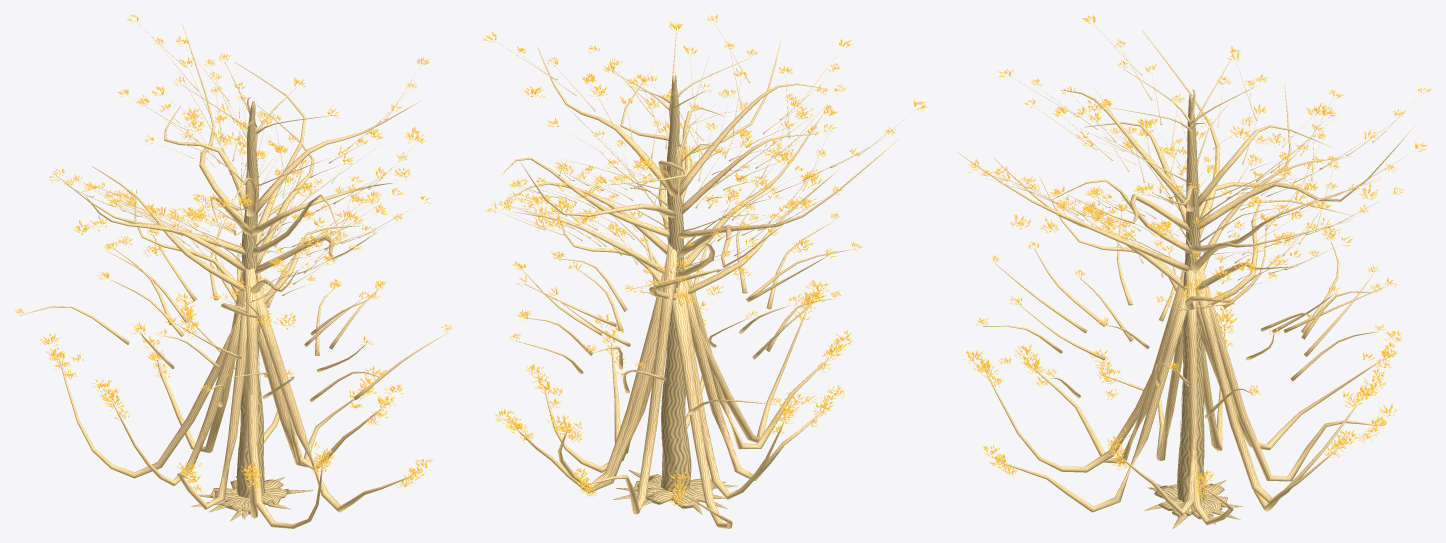
File: world_tree.glb
3 renders of one model, left to right at view 1: azimuth 30°, elevation 25°; view 2: azimuth 150°, elevation 25°; view 3: azimuth 270°, elevation 25°, orthographic. The views are drawn at different scales.
Visible parts, largest first — view 1: WorldTree_Branches, WorldTree_Leaves, WorldTree_Bark; view 2: WorldTree_Branches, WorldTree_Leaves, WorldTree_Bark; view 3: WorldTree_Branches, WorldTree_Leaves, WorldTree_Bark.
Boxes of the visible parts, x1=… form: WorldTree_Branches: x1=19, y1=23, x2=447, y2=528; WorldTree_Leaves: x1=14, y1=14, x2=453, y2=493; WorldTree_Bark: x1=191, y1=101, x2=313, y2=521; WorldTree_Branches: x1=494, y1=24, x2=916, y2=528; WorldTree_Leaves: x1=483, y1=14, x2=927, y2=505; WorldTree_Bark: x1=613, y1=76, x2=737, y2=514; WorldTree_Branches: x1=957, y1=24, x2=1419, y2=525; WorldTree_Leaves: x1=964, y1=14, x2=1431, y2=499; WorldTree_Bark: x1=1144, y1=94, x2=1243, y2=528.
Size of the model in its own units: 228 by 244 by 243.
Materials: 4 (3 with a texture image).
